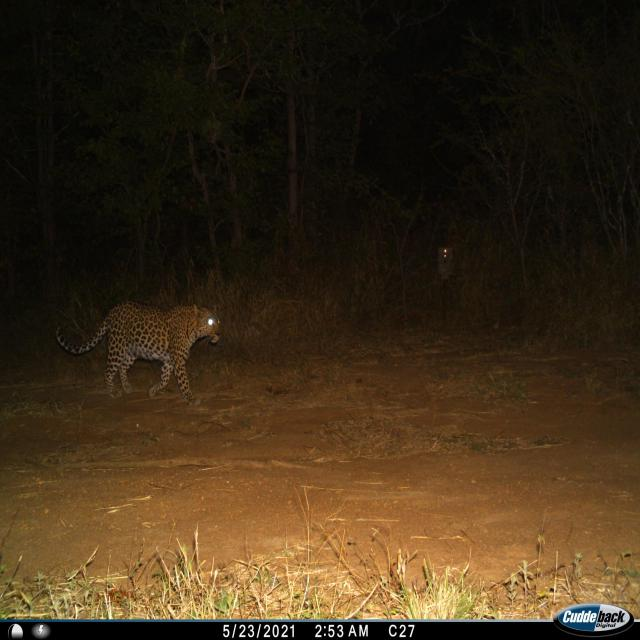Leopard: (48, 290, 228, 406)
